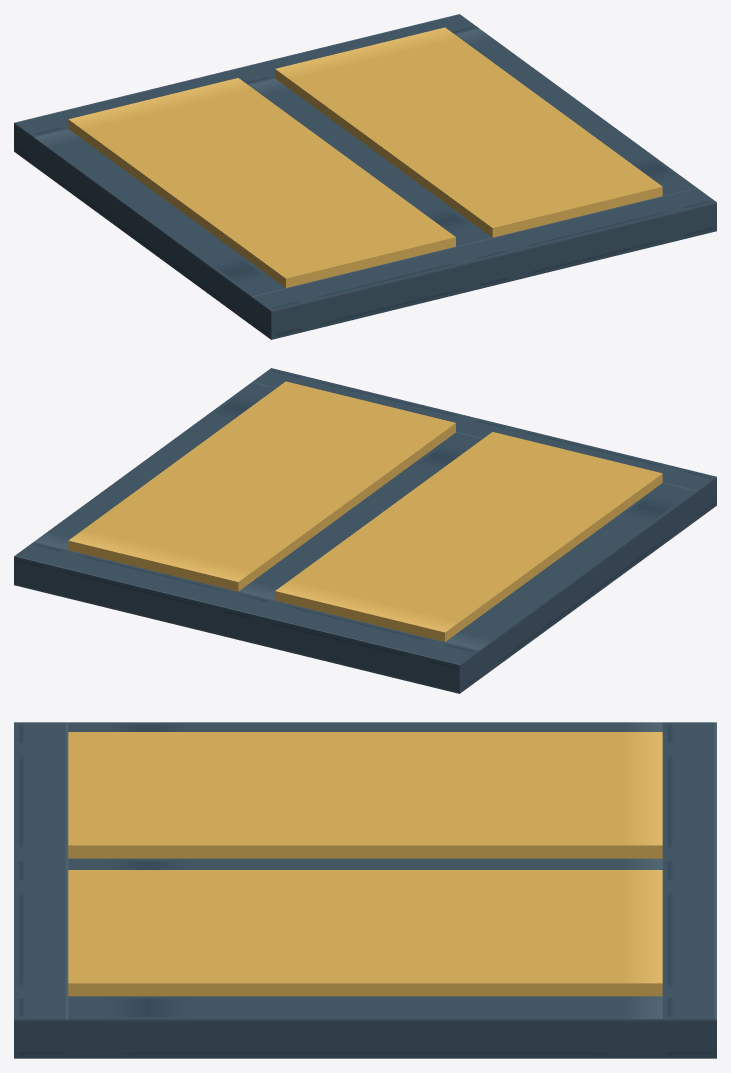
The model's file is sc_trapdoor.obj.
3 renders of one model, top to bottom at view 1: azimuth 30°, elevation 25°; view 2: azimuth 150°, elevation 25°; view 3: azimuth 270°, elevation 25°, orthographic. The views are drawn at different scales.
Size of the model in its own units: 19.4 by 1.6 by 19.4.
1 material, 1 textured.
